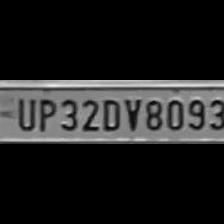0: (163, 96, 183, 130)
2: (79, 95, 99, 131)
3: (57, 95, 77, 131), (206, 96, 222, 130)
8: (140, 96, 162, 130)
9: (185, 96, 205, 130)
D: (99, 95, 121, 131)
P: (35, 95, 55, 131)
U: (12, 96, 36, 130)
V: (121, 95, 141, 131)
